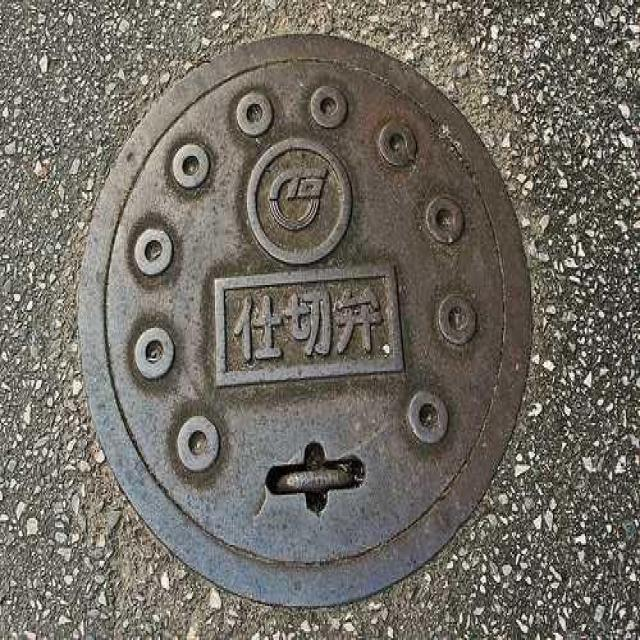manhole: (79, 35, 530, 605)
